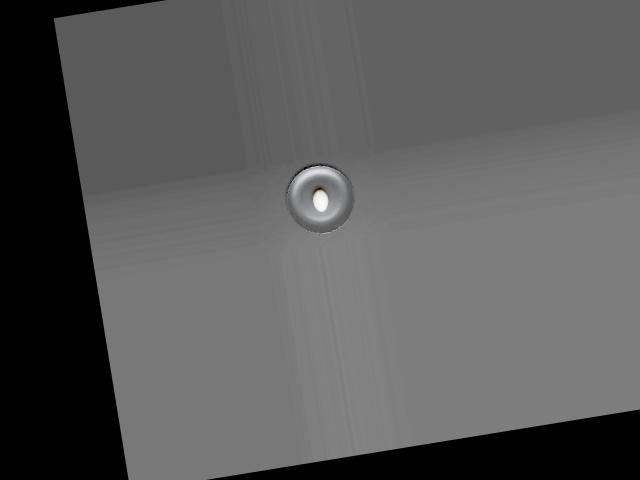egg: (311, 188, 330, 212)
